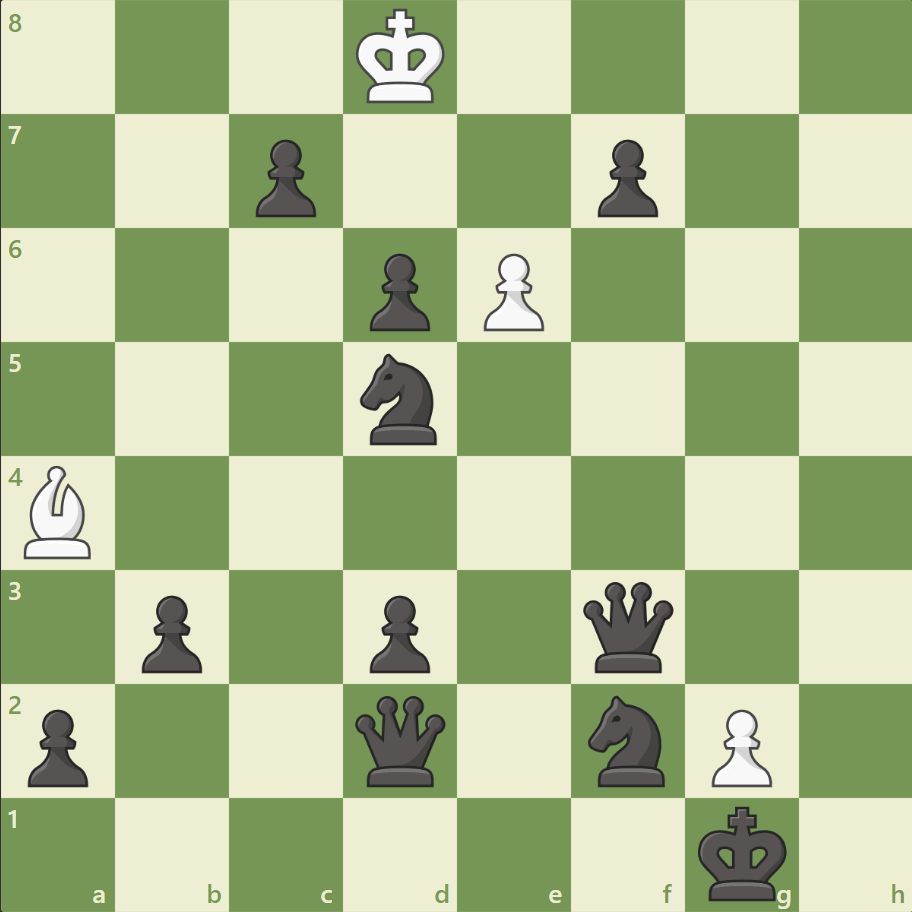B: (17, 460, 101, 563)
K: (351, 4, 451, 112)
P: (474, 246, 549, 337), (701, 700, 776, 791)
k: (692, 798, 792, 906)
n: (351, 348, 449, 450), (579, 688, 676, 791)
p: (247, 132, 322, 223), (133, 586, 208, 677), (20, 700, 95, 791), (588, 132, 662, 223), (361, 246, 435, 337), (361, 586, 435, 677)
q: (578, 576, 677, 676), (351, 690, 450, 789)
